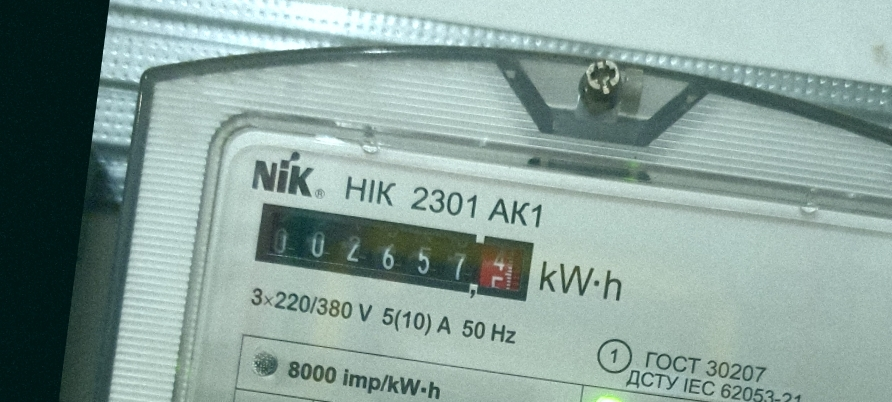0: (269, 224, 290, 254), (307, 227, 326, 258)
2: (343, 232, 363, 263)
4: (490, 244, 508, 271)
5: (413, 243, 433, 275), (488, 273, 505, 289)
6: (379, 239, 397, 270)
7: (449, 248, 467, 281)
screen: (243, 190, 546, 313)
